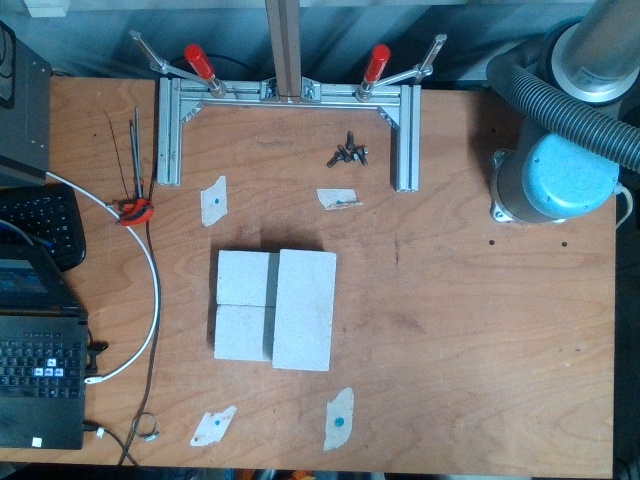brick: (270, 252, 335, 369)
